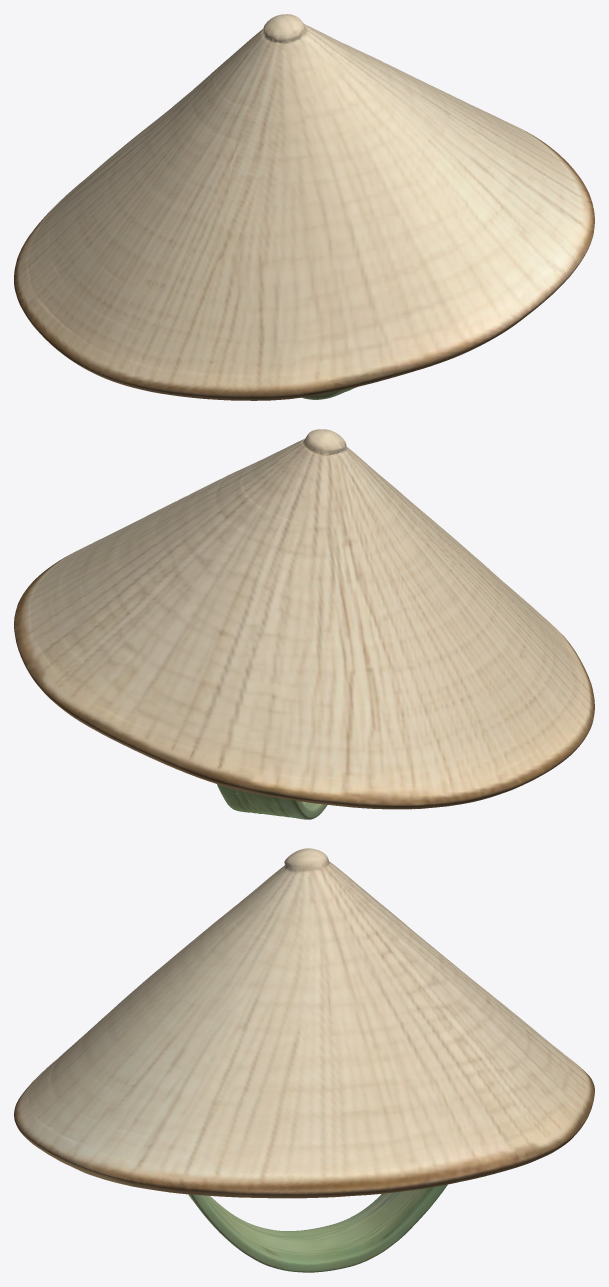
File: phu_kien_7.glb
The picture shows the model from 3 angles, top to bottom: view 1: azimuth 30°, elevation 25°; view 2: azimuth 150°, elevation 25°; view 3: azimuth 270°, elevation 25°; orthographic projection. The views are drawn at different scales.
Parts seen in each view (by area): view 1: PhuKien_7; view 2: PhuKien_7; view 3: PhuKien_7.
Boxes of the visible parts, <box> form: PhuKien_7: <box>14,14,594,400</box>; PhuKien_7: <box>14,429,594,819</box>; PhuKien_7: <box>14,848,594,1272</box>.
Size of the model in its own units: 0.2208 by 0.1594 by 0.2151.
1 material, 1 textured.
